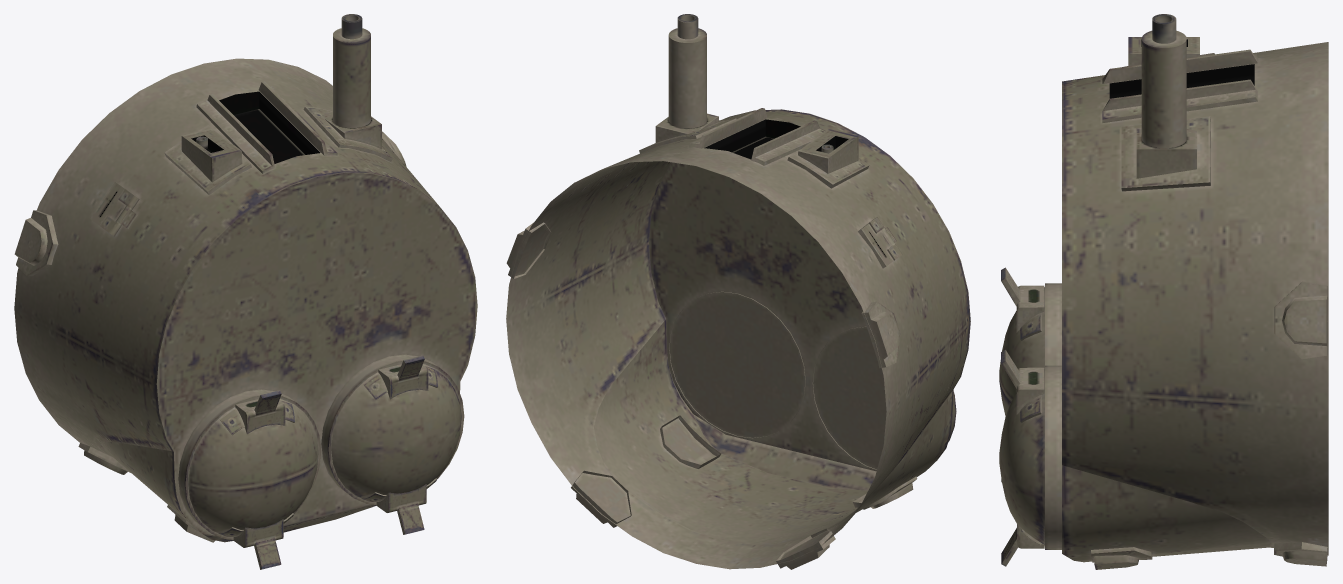
Rendered from Turret_01.glb.
3 views of the same model, side by side, from view 1: azimuth 30°, elevation 25°; view 2: azimuth 150°, elevation 25°; view 3: azimuth 270°, elevation 25° (orthographic). The views are drawn at different scales.
Visible parts, largest first — view 1: set_0_group_0; view 2: set_0_group_0; view 3: set_0_group_0.
Part boxes in pixels (<box>): set_0_group_0: <box>14,14,477,569</box>; set_0_group_0: <box>506,14,970,569</box>; set_0_group_0: <box>999,14,1328,569</box>.
Size of the model in its own units: 1.56 by 1.86 by 0.9926.
Materials: 1 (1 with a texture image).
